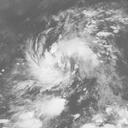cyclone: (27, 34, 101, 92)
